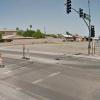Traffic light: (60, 0, 86, 28)
